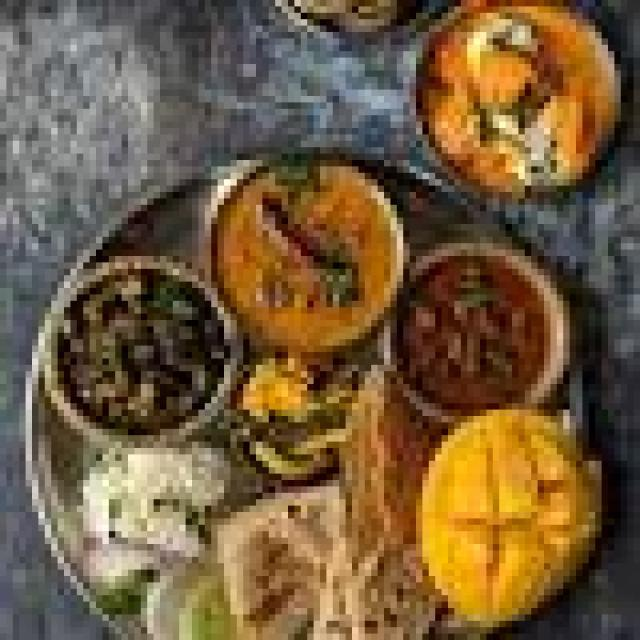rice: (0, 19, 166, 240)
sweet: (418, 12, 608, 201), (396, 235, 565, 414)
veg-fry: (207, 144, 411, 375), (393, 235, 564, 413), (259, 0, 433, 48)
